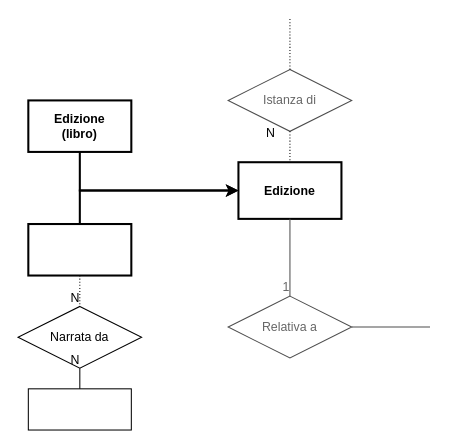
Image size: 449x448. Some labels were removed from this diagram. The centre of each missing label's shape, as x and y in pixels:
"Edizione (audio)" goes at point 79,249.
"Narratore" goes at point 79,409.
